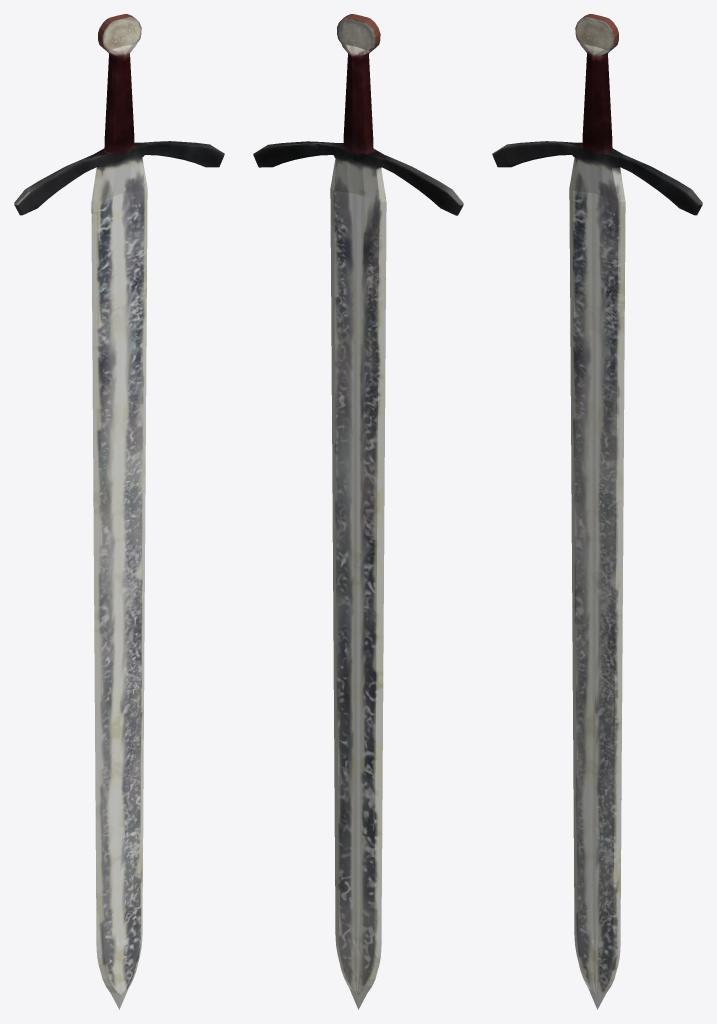
File: Schwert 1.fbx
The picture shows the model from 3 angles, left to right: view 1: azimuth 30°, elevation 25°; view 2: azimuth 150°, elevation 25°; view 3: azimuth 330°, elevation 25°; orthographic projection.
Visible parts, largest first — view 1: Fläche; view 2: Fläche; view 3: Fläche.
Boxes of the visible parts, x1,y1,x2,y2 form: Fläche: (14, 14, 224, 1009); Fläche: (253, 14, 463, 1009); Fläche: (492, 14, 702, 1009).
Size of the model in its own units: 574 by 2591 by 52.98.
1 material, 1 textured.
